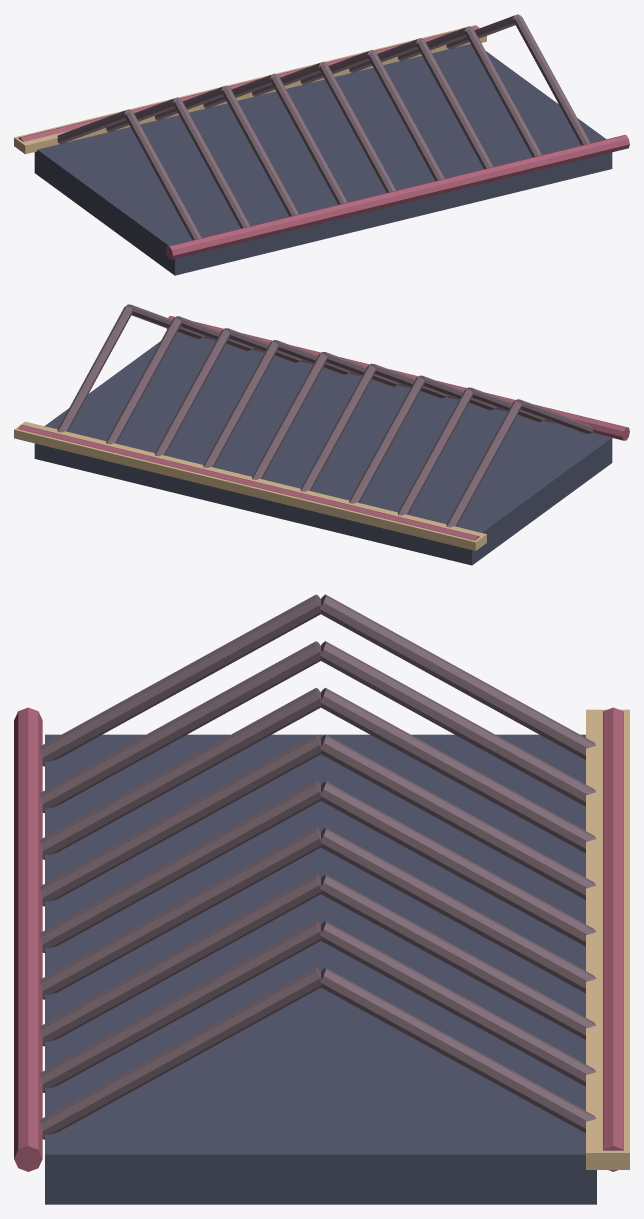
The model's file is dojo_curved_roof_lod0.glb.
The picture shows the model from 3 angles, top to bottom: view 1: azimuth 30°, elevation 25°; view 2: azimuth 150°, elevation 25°; view 3: azimuth 270°, elevation 25°; orthographic projection. The views are drawn at different scales.
Visible parts, largest first — view 1: dojo_curved_roof_000, dojo_curved_roof_021, dojo_curved_roof_001, dojo_curved_roof_005, dojo_curved_roof_007, dojo_curved_roof_003, dojo_curved_roof_009, dojo_curved_roof_019, dojo_curved_roof_011, dojo_curved_roof_017, dojo_curved_roof_015, dojo_curved_roof_013 (+10 smaller); view 2: dojo_curved_roof_000, dojo_curved_roof_001, dojo_curved_roof_020, dojo_curved_roof_016, dojo_curved_roof_018, dojo_curved_roof_021, dojo_curved_roof_004, dojo_curved_roof_006, dojo_curved_roof_012, dojo_curved_roof_008, dojo_curved_roof_010, dojo_curved_roof_014 (+10 smaller); view 3: dojo_curved_roof_000, dojo_curved_roof_021, dojo_curved_roof_001, dojo_curved_roof_020, dojo_curved_roof_011, dojo_curved_roof_017, dojo_curved_roof_015, dojo_curved_roof_005, dojo_curved_roof_009, dojo_curved_roof_013, dojo_curved_roof_003, dojo_curved_roof_007 (+10 smaller).
Part boxes in pixels (bbox=[...]): dojo_curved_roof_000: bbox=[34, 44, 612, 275]; dojo_curved_roof_021: bbox=[165, 135, 629, 259]; dojo_curved_roof_001: bbox=[14, 25, 486, 154]; dojo_curved_roof_005: bbox=[173, 99, 250, 228]; dojo_curved_roof_007: bbox=[222, 87, 298, 216]; dojo_curved_roof_003: bbox=[124, 111, 201, 240]; dojo_curved_roof_009: bbox=[270, 75, 347, 204]; dojo_curved_roof_019: bbox=[513, 16, 590, 145]; dojo_curved_roof_011: bbox=[319, 63, 396, 192]; dojo_curved_roof_017: bbox=[465, 28, 541, 157]; dojo_curved_roof_015: bbox=[416, 40, 493, 168]; dojo_curved_roof_013: bbox=[367, 51, 444, 180]; dojo_curved_roof_000: bbox=[34, 332, 612, 565]; dojo_curved_roof_001: bbox=[14, 421, 486, 550]; dojo_curved_roof_020: bbox=[18, 425, 479, 540]; dojo_curved_roof_016: bbox=[106, 318, 181, 444]; dojo_curved_roof_018: bbox=[57, 306, 132, 432]; dojo_curved_roof_021: bbox=[166, 316, 629, 440]; dojo_curved_roof_004: bbox=[398, 389, 473, 515]; dojo_curved_roof_006: bbox=[349, 377, 424, 503]; dojo_curved_roof_012: bbox=[203, 341, 278, 467]; dojo_curved_roof_008: bbox=[300, 365, 375, 491]; dojo_curved_roof_010: bbox=[252, 353, 327, 479]; dojo_curved_roof_014: bbox=[154, 330, 230, 456]; dojo_curved_roof_000: bbox=[45, 734, 596, 1204]; dojo_curved_roof_021: bbox=[14, 707, 42, 1171]; dojo_curved_roof_001: bbox=[586, 709, 629, 1169]; dojo_curved_roof_020: bbox=[603, 707, 623, 1171]; dojo_curved_roof_011: bbox=[40, 781, 321, 952]; dojo_curved_roof_017: bbox=[40, 921, 321, 1092]; dojo_curved_roof_015: bbox=[40, 874, 321, 1046]; dojo_curved_roof_005: bbox=[40, 641, 321, 812]; dojo_curved_roof_009: bbox=[40, 734, 321, 906]; dojo_curved_roof_013: bbox=[40, 828, 321, 999]; dojo_curved_roof_003: bbox=[40, 594, 321, 766]; dojo_curved_roof_007: bbox=[40, 688, 321, 859].
Bounding box in the file's own units: 9.5 × 2.12 × 5.58.
